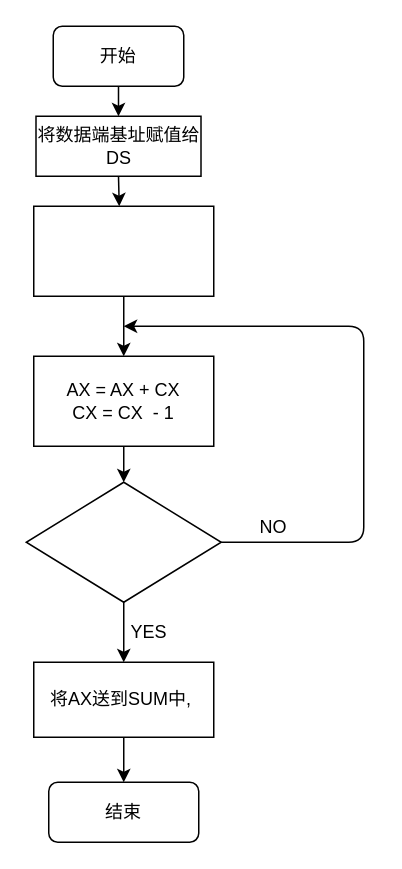
Image size: 402x869. Some labels were removed from this diagram. The shapes that lost their labels are listed below. From the top down, each one's centre as x and y in pixels, then its label:
(123,250): 设置循环次数100 CX = 100
(123,541): CX = 0 ?
